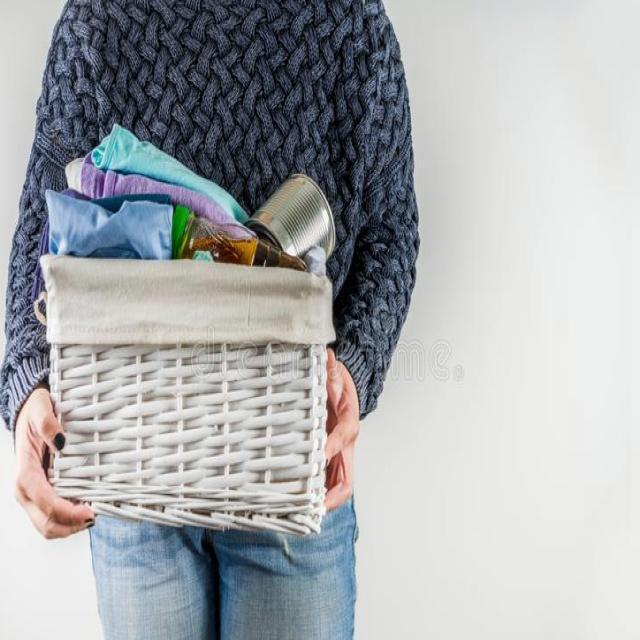clothes: (69, 9, 237, 259)
